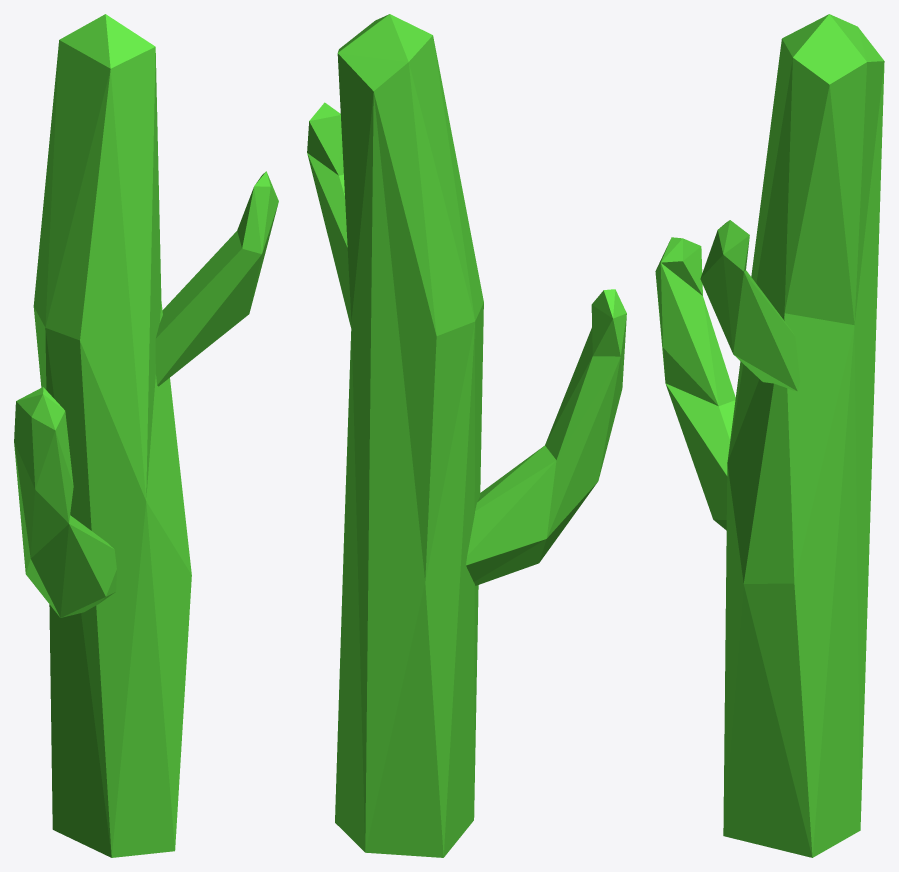
Rendered from cactusNoSpines.fbx.
3 renders of one model, left to right at view 1: azimuth 30°, elevation 25°; view 2: azimuth 150°, elevation 25°; view 3: azimuth 270°, elevation 25°, orthographic. The views are drawn at different scales.
Parts seen in each view (by area): view 1: Cylinder; view 2: Cylinder; view 3: Cylinder.
Part boxes in pixels (bbox=[...]): Cylinder: bbox=[14, 14, 278, 857]; Cylinder: bbox=[307, 14, 626, 857]; Cylinder: bbox=[655, 14, 884, 857].
Size of the model in its own units: 165 by 452 by 115.
